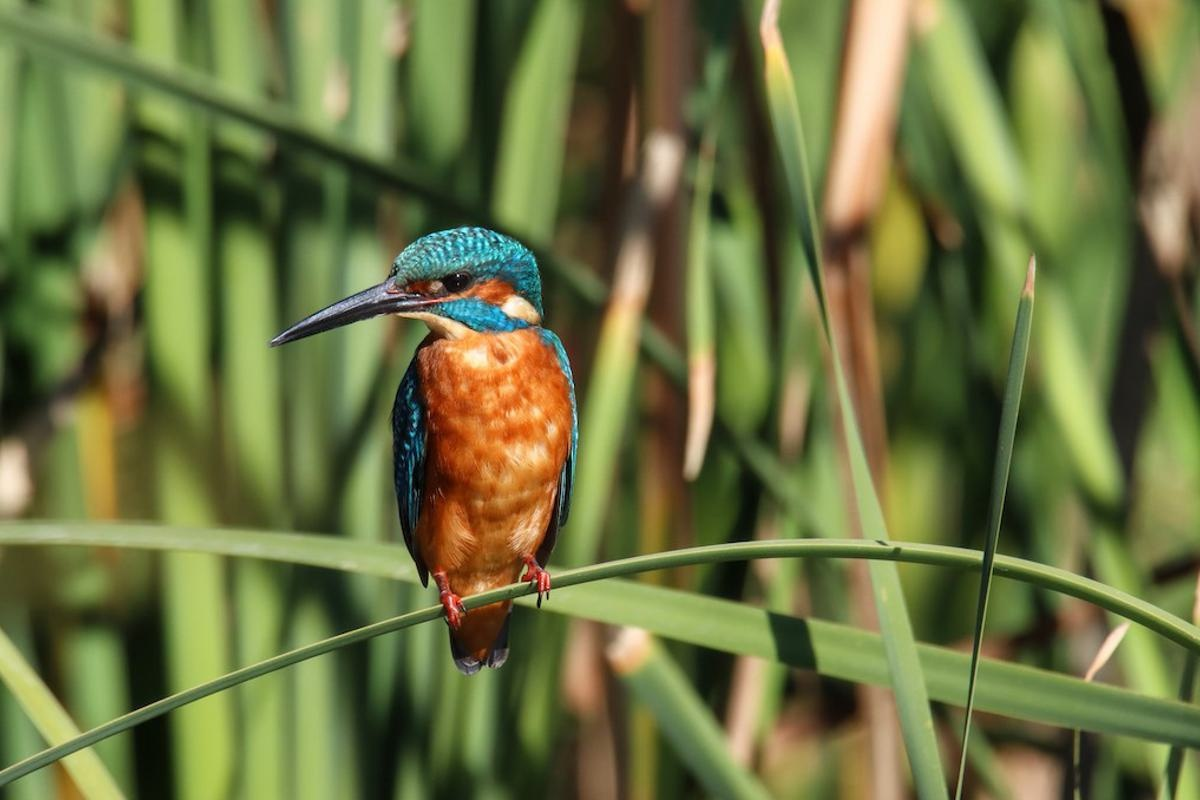kingfisher: (284, 213, 605, 691)
